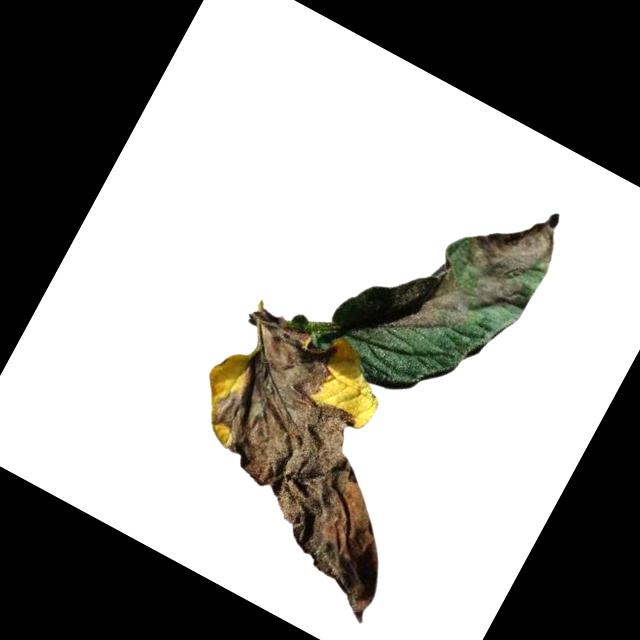Late_blight: (149, 299, 475, 626), (446, 183, 573, 321), (387, 251, 485, 360)
